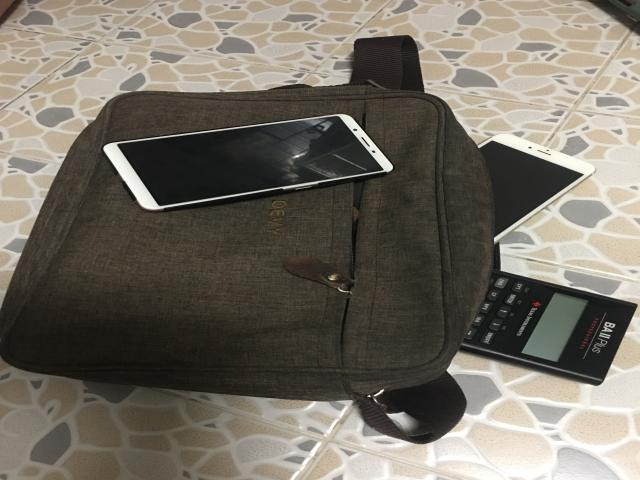Mobile phone: (103, 114, 393, 212), (478, 134, 595, 242)
